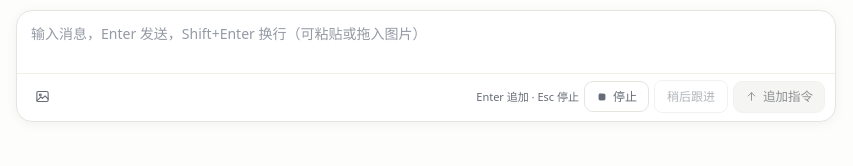
Test case: message queues and stopping › keeps a rejected follow-up draft
In the text box: x=426, y=45 [31,21,821,69], type "keep this follow-up"
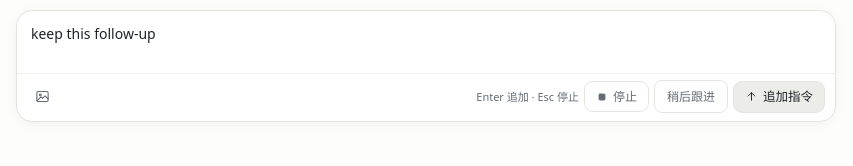
Click the button "稍后跟进": x=691, y=97 [654,80,728,113]
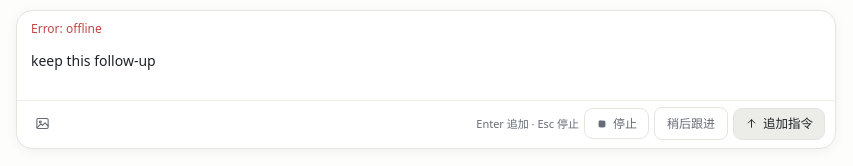
Check: the message "Error: offline" is shown, box [31,20,102,37]
